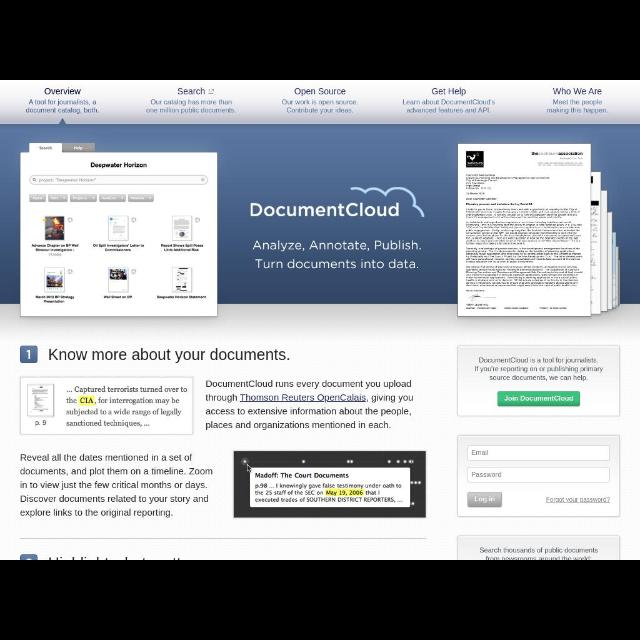image: (20, 146, 218, 316), (459, 144, 621, 318), (233, 451, 425, 517), (28, 386, 54, 416)
input: (469, 468, 611, 484), (468, 446, 610, 460)
text: (20, 454, 214, 520), (206, 379, 412, 429), (66, 385, 188, 427), (253, 240, 421, 270), (47, 348, 290, 364), (473, 358, 602, 382), (249, 202, 399, 218), (480, 546, 598, 560), (402, 99, 498, 113), (147, 100, 237, 114), (282, 99, 358, 115), (26, 100, 100, 114), (547, 100, 609, 114), (504, 394, 574, 402), (294, 87, 346, 97), (552, 86, 604, 96), (546, 496, 612, 502), (44, 87, 82, 97), (432, 86, 466, 96), (177, 88, 207, 96), (474, 494, 496, 504), (471, 472, 501, 478), (472, 449, 488, 456), (34, 420, 46, 428), (26, 350, 32, 360)
textbutton: (498, 392, 580, 406), (468, 492, 502, 508)
